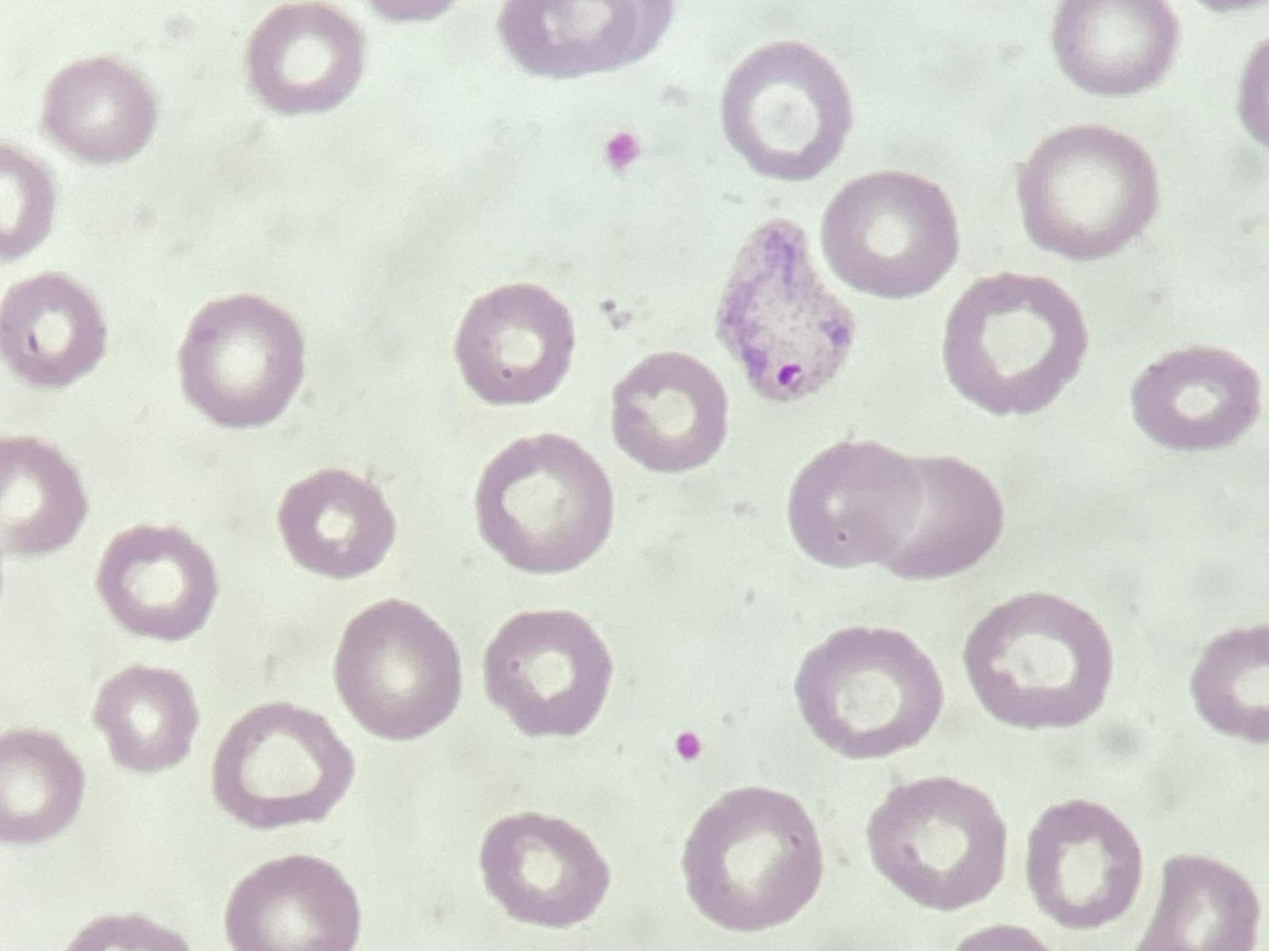Infected: (714, 221, 859, 405)
Uninfected: (679, 783, 827, 930), (941, 274, 1088, 415), (969, 591, 1110, 733), (471, 433, 617, 568), (798, 626, 944, 758), (1016, 124, 1156, 259), (335, 600, 466, 741), (214, 703, 357, 830), (868, 776, 1002, 909), (476, 609, 610, 741), (723, 40, 853, 176), (176, 294, 301, 424), (826, 175, 953, 299), (881, 450, 1002, 580), (480, 811, 612, 928), (1024, 803, 1146, 928), (791, 444, 921, 561), (454, 287, 574, 408), (93, 525, 217, 640), (1132, 344, 1262, 452), (223, 853, 360, 951), (278, 470, 398, 580), (612, 353, 724, 470), (247, 1, 363, 113), (1046, 0, 1179, 93), (44, 58, 156, 168), (0, 278, 107, 386), (97, 666, 198, 775), (0, 730, 84, 844), (0, 446, 90, 552)
